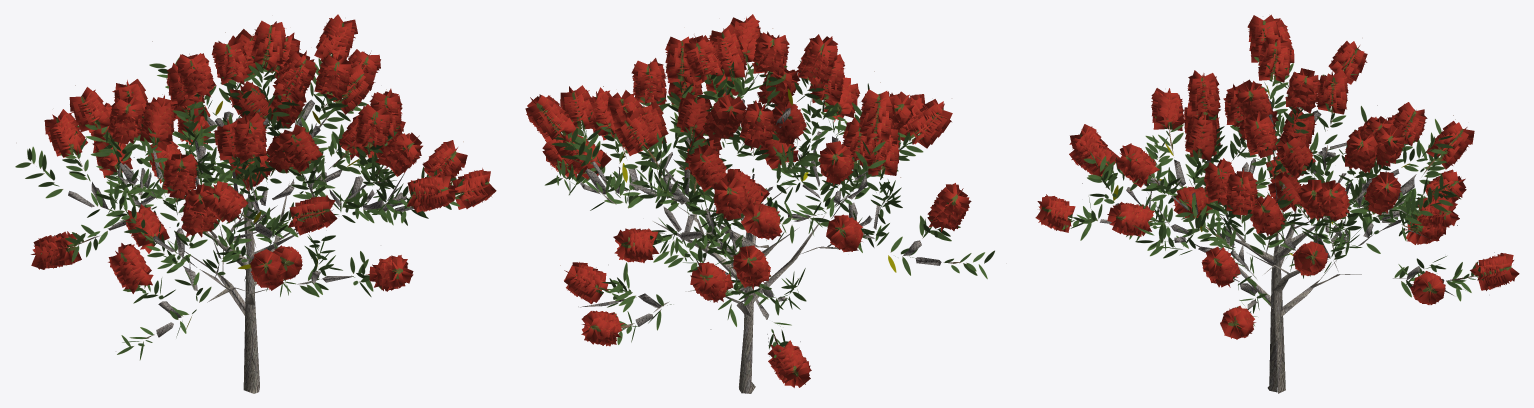
The model's file is bottlebrush_a.glb.
3 views of the same model, side by side, from view 1: azimuth 30°, elevation 25°; view 2: azimuth 150°, elevation 25°; view 3: azimuth 270°, elevation 25° (orthographic). The views are drawn at different scales.
Parts seen in each view (by area): view 1: Callistemon_laevis_HD_Callist laevis leaf a_0; view 2: Callistemon_laevis_HD_Callist laevis leaf a_0; view 3: Callistemon_laevis_HD_Callist laevis leaf a_0.
Part boxes in pixels (box(x1,y1,x2,y2)): Callistemon_laevis_HD_Callist laevis leaf a_0: box(15, 14, 496, 393); Callistemon_laevis_HD_Callist laevis leaf a_0: box(525, 14, 994, 393); Callistemon_laevis_HD_Callist laevis leaf a_0: box(1035, 14, 1519, 393).
Size of the model in its own units: 1.17 by 0.9797 by 1.24.
6 materials, 6 textured.
